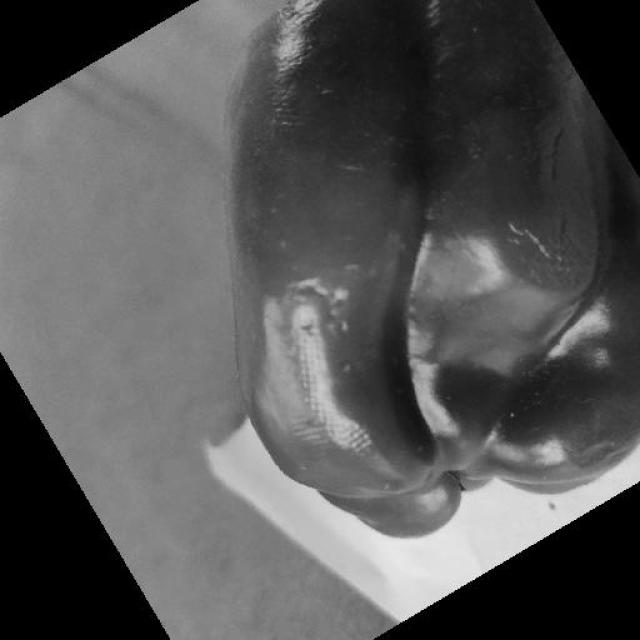Stale_Capsicum: (196, 0, 640, 518)
